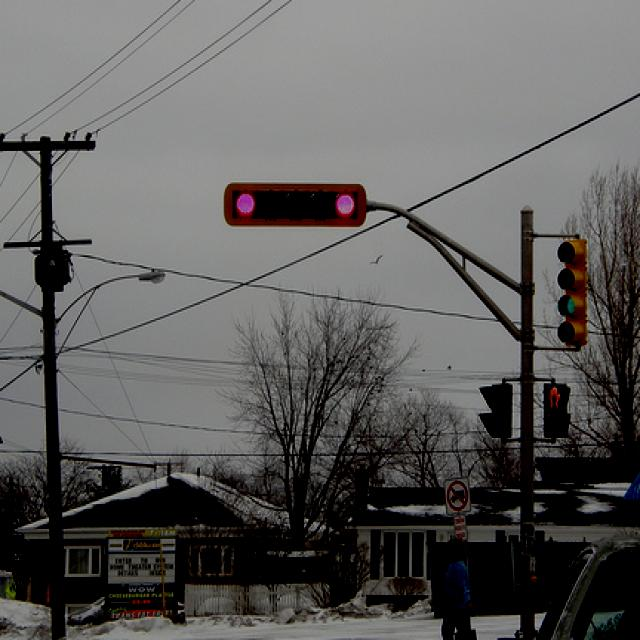Vehicle: (502, 532, 640, 640)
